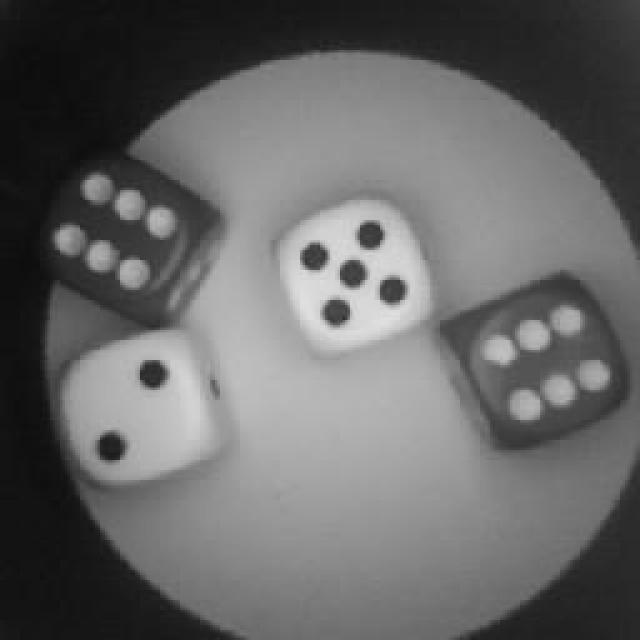dice_2: (58, 325, 230, 483)
dice_5: (282, 198, 428, 352)
dice_6: (32, 155, 200, 317), (460, 278, 620, 448)
